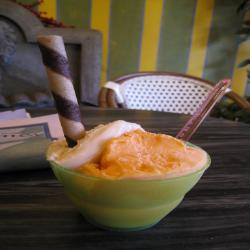icecream: (40, 98, 219, 226)
